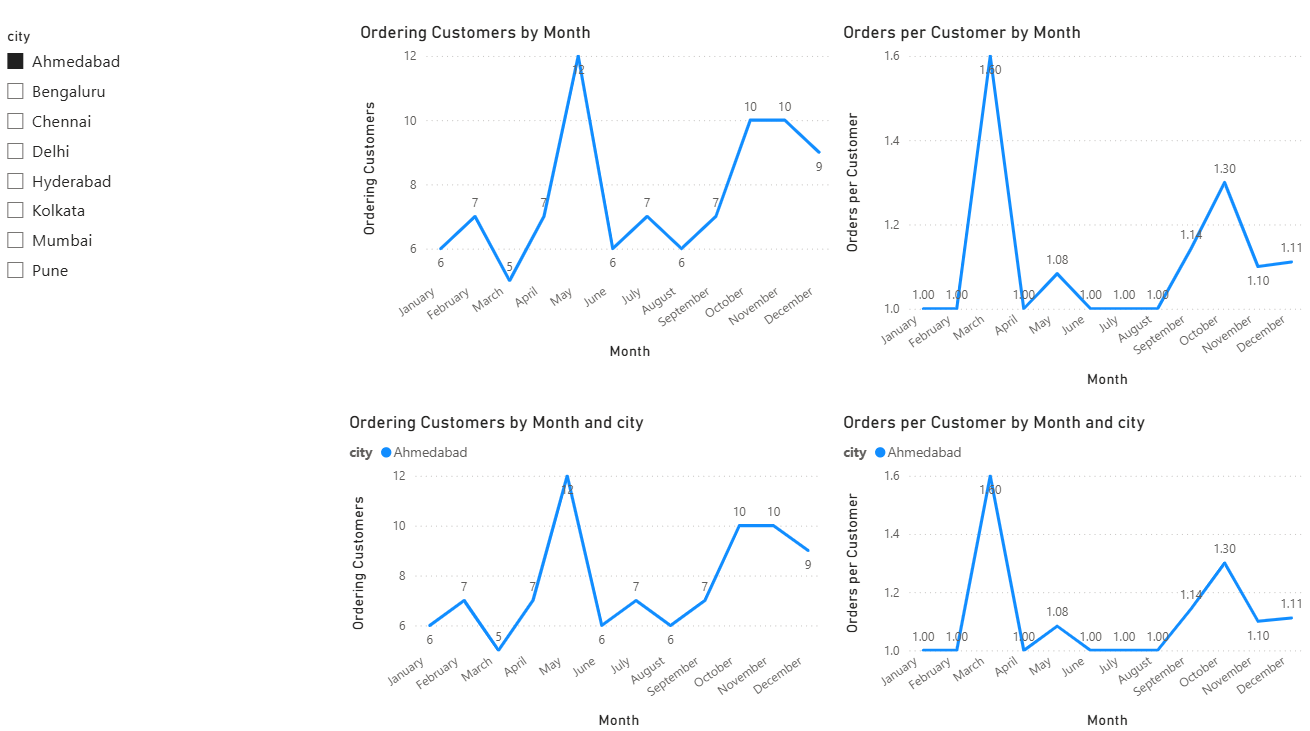

The page's visual inventory and layout, read from the dashboard file:
{"tool":"powerbi","page":{"name":"Customer Intelligence","canvas":[1280,720],"ordinal":1},"visuals":[{"type":"lineChart","fields":{"Category":["orders(1).order_date.Variation.Date Hierarchy.Month"],"Y":["_measures.Ordering Customers"]},"box":[351.1,27.2,469.8,332.6],"z":0},{"type":"lineChart","fields":{"Category":["orders(1).order_date.Variation.Date Hierarchy.Month"],"Y":["_measures.Orders per Customer"]},"box":[820.9,27.2,459.1,359.9],"z":1000},{"type":"lineChart","fields":{"Category":["orders(1).order_date.Variation.Date Hierarchy.Month"],"Y":["_measures.Ordering Customers"],"Series":["orders(1).city"]},"box":[340.4,406.6,469.8,313.2],"z":2000},{"type":"slicer","fields":{"Values":["orders(1).city"]},"box":[0,27.2,351.1,255.8],"z":3000},{"type":"lineChart","fields":{"Category":["orders(1).order_date.Variation.Date Hierarchy.Month"],"Y":["_measures.Orders per Customer"],"Series":["orders(1).city"]},"box":[820.9,406.6,459.1,313.2],"z":4000}]}

Visuals, with their boxes in screenshot pixels (x1, y1, x2, y2), scaled from the page's 1280x720 canvas onto the 1310x731 screenshot:
lineChart - orders(1).order_date.Variation.Date Hierarchy.Month x _measures.Ordering Customers: pyautogui.locateOnScreen(359, 28, 840, 365)
lineChart - orders(1).order_date.Variation.Date Hierarchy.Month x _measures.Orders per Customer: pyautogui.locateOnScreen(840, 28, 1309, 393)
lineChart - orders(1).order_date.Variation.Date Hierarchy.Month x _measures.Ordering Customers: pyautogui.locateOnScreen(348, 413, 829, 730)
slicer - orders(1).city: pyautogui.locateOnScreen(0, 28, 359, 287)
lineChart - orders(1).order_date.Variation.Date Hierarchy.Month x _measures.Orders per Customer: pyautogui.locateOnScreen(840, 413, 1309, 730)
